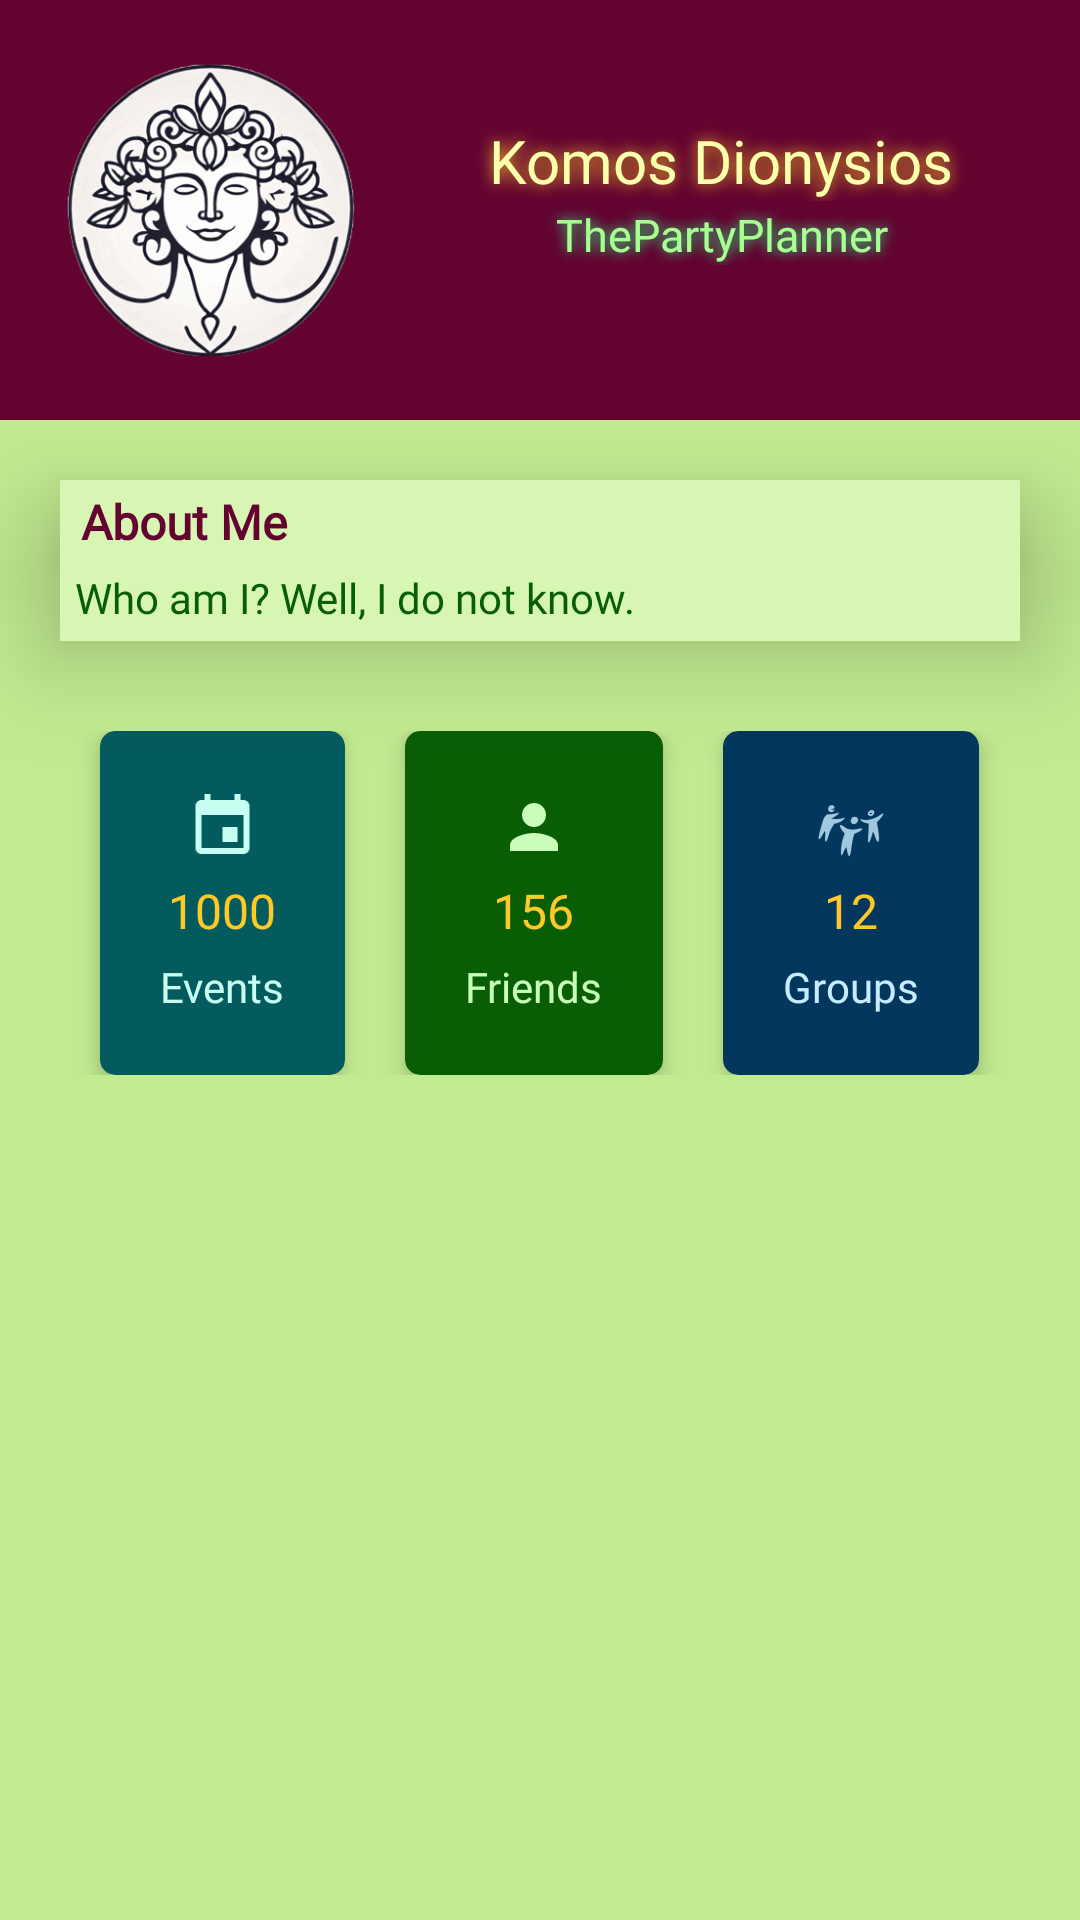

Named icons in this screenshot (1080px x 1920px) and their centers, (x=x, y=y):
event view: (x=222, y=824)
person: (x=534, y=827)
Profile Picture: (x=210, y=210)
